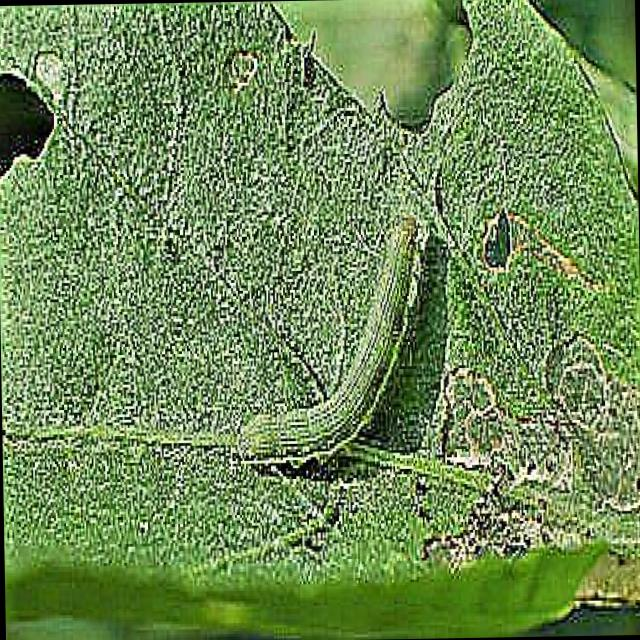Armyworm: (209, 169, 438, 497)
Armyworm_damage: (1, 35, 67, 217), (480, 211, 519, 282)
